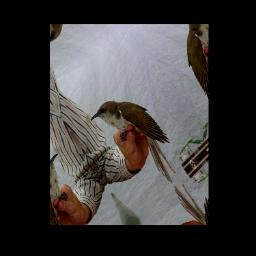Cuckoo: (88, 78, 186, 206)
